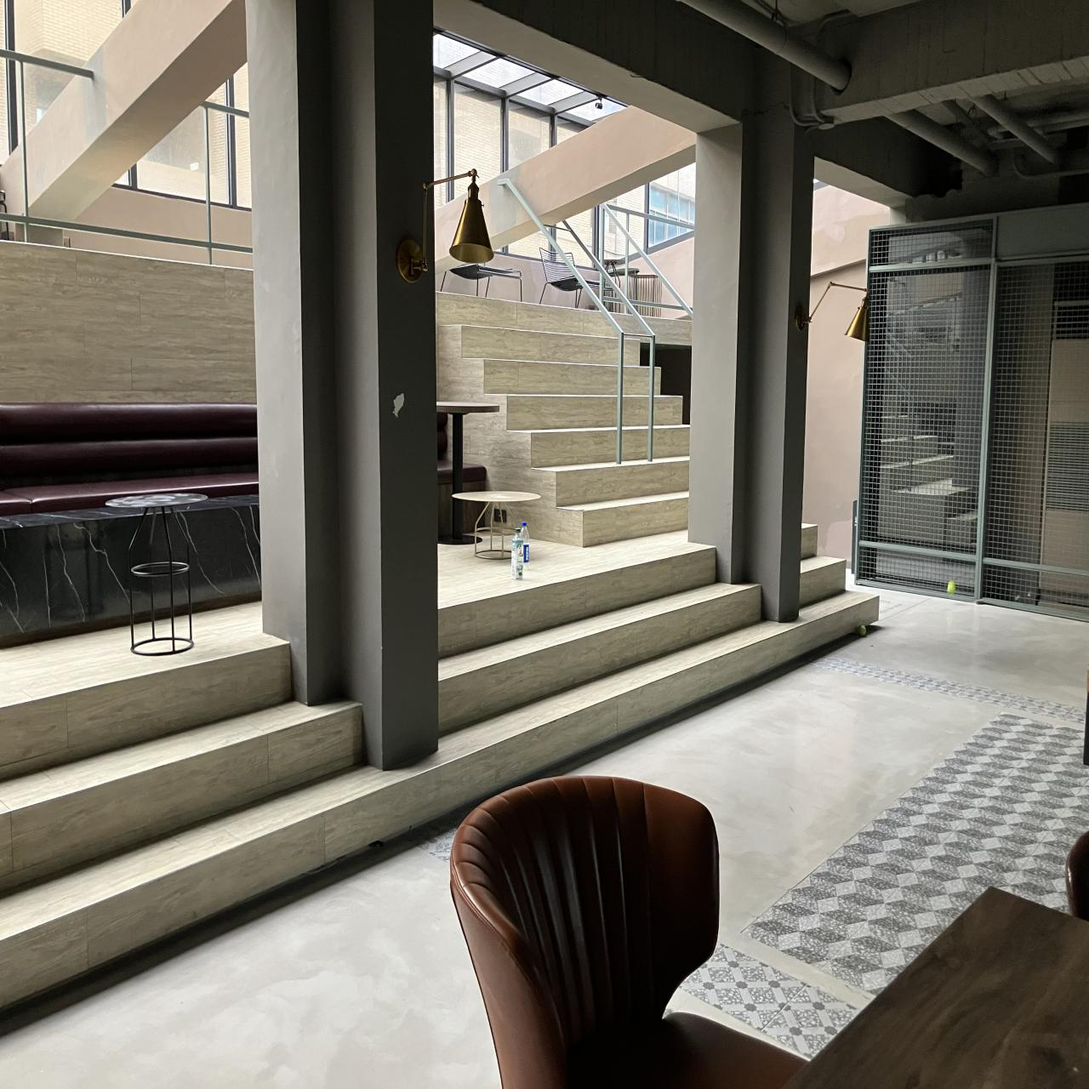plastic-bottle: (511, 530, 523, 579), (521, 522, 529, 565)
tennisball: (947, 580, 956, 594), (857, 624, 867, 636)
